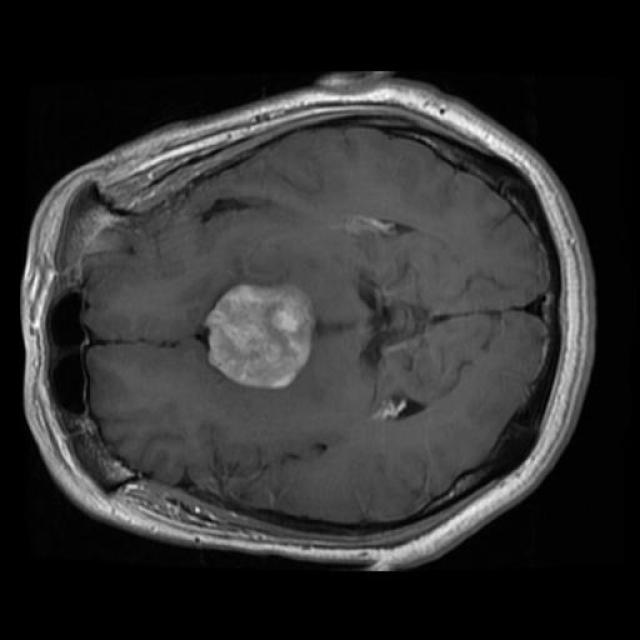Pituitary: (206, 286, 315, 389)
